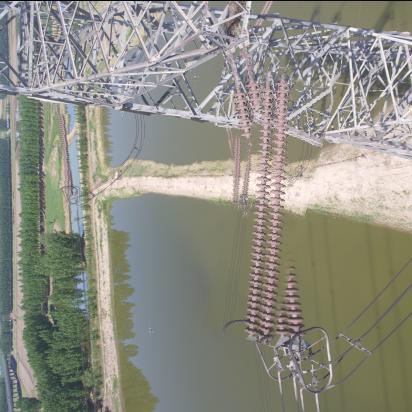insulator: (218, 73, 323, 344), (224, 136, 251, 205), (54, 114, 75, 192)
